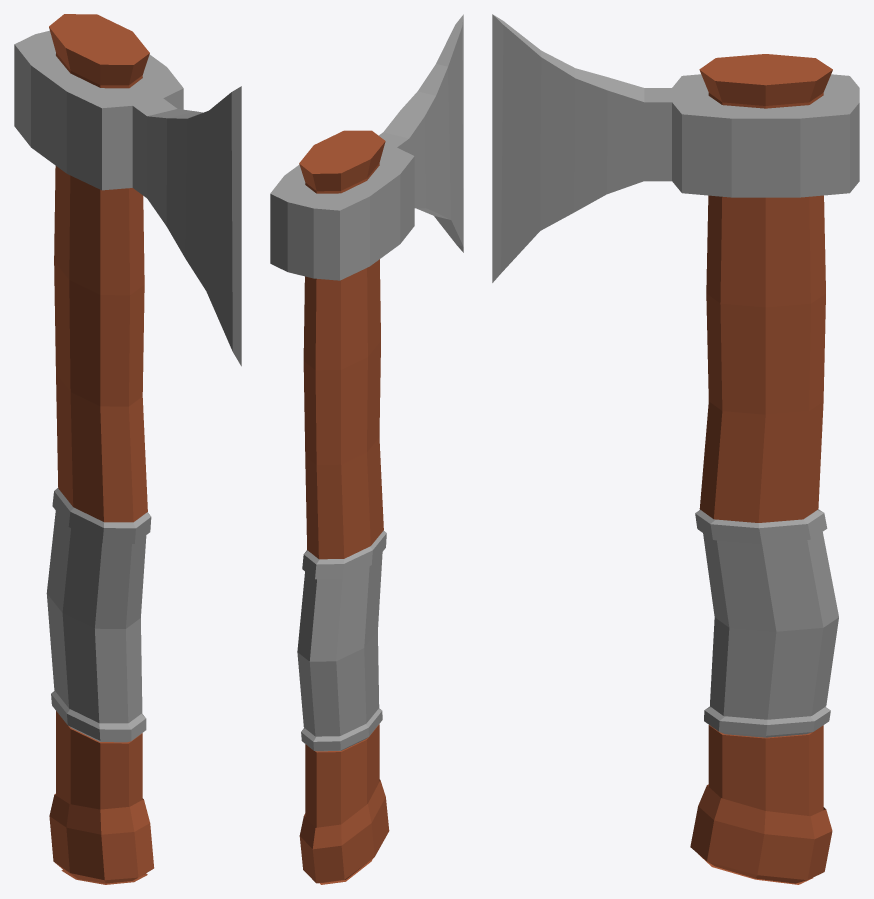
Rendered from axe.fbx.
3 views of the same model, side by side, from view 1: azimuth 30°, elevation 25°; view 2: azimuth 150°, elevation 25°; view 3: azimuth 270°, elevation 25° (orthographic). The views are drawn at different scales.
Visible parts, largest first — view 1: Cube; view 2: Cube; view 3: Cube.
Part boxes in pixels (x1,y1,x2,y2): Cube: (14,14,241,884); Cube: (270,14,463,884); Cube: (492,14,859,884).
Bounding box in the file's own units: 255 × 2189 × 844.
